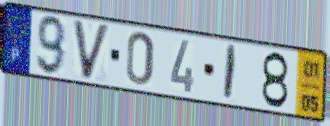0: (124, 30, 157, 89)
4: (169, 38, 196, 94)
8: (260, 51, 290, 110)
9: (36, 13, 70, 78)
I: (221, 43, 239, 104)
V: (70, 17, 113, 83)
